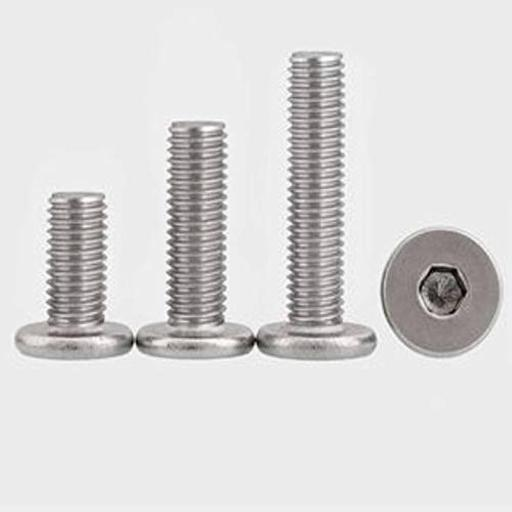Hex-Allen: (382, 228, 500, 358)
